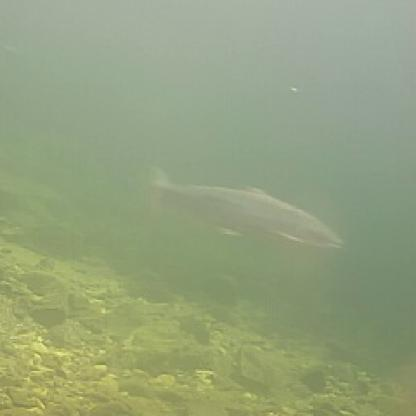salmon: (132, 160, 350, 253)
